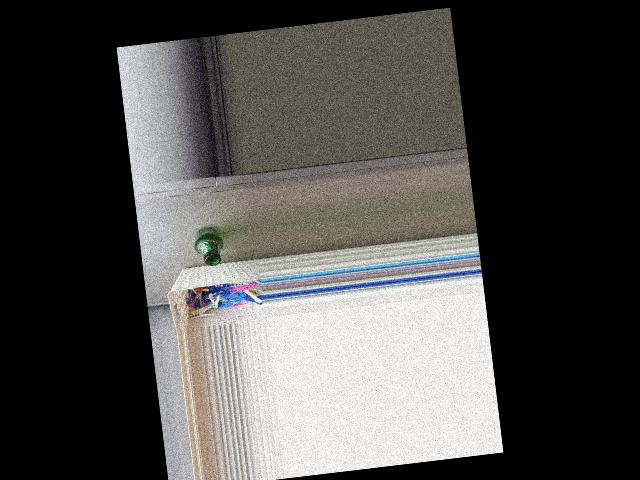beer: (191, 224, 225, 267)
